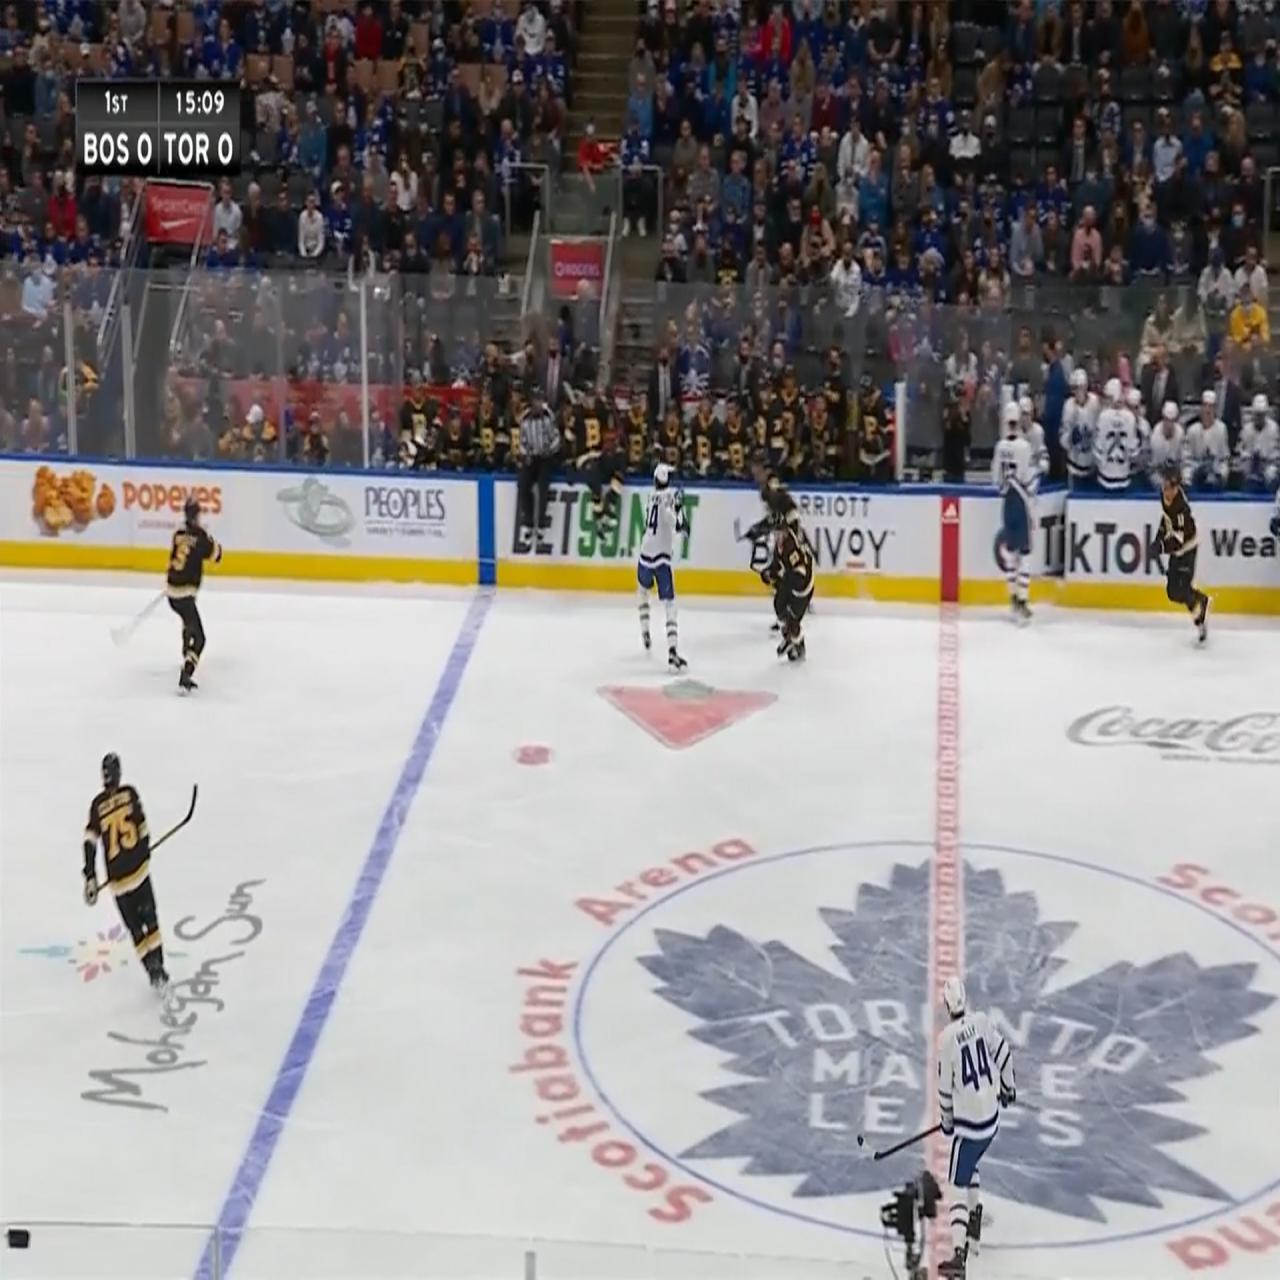Ad: (18, 843, 282, 1153), (1057, 678, 1280, 806), (576, 665, 782, 769), (509, 484, 707, 571), (270, 477, 462, 561), (1016, 496, 1184, 584), (30, 469, 229, 543), (761, 493, 904, 573), (1208, 505, 1279, 577)
